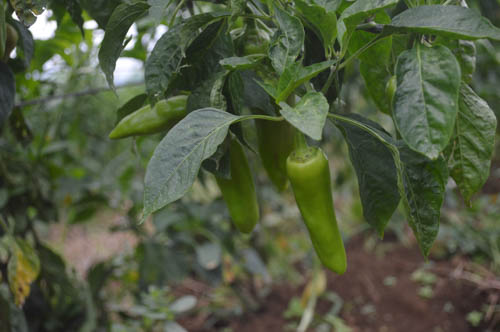ChiliPepper: (284, 149, 352, 273), (216, 140, 265, 239), (106, 95, 202, 142)
